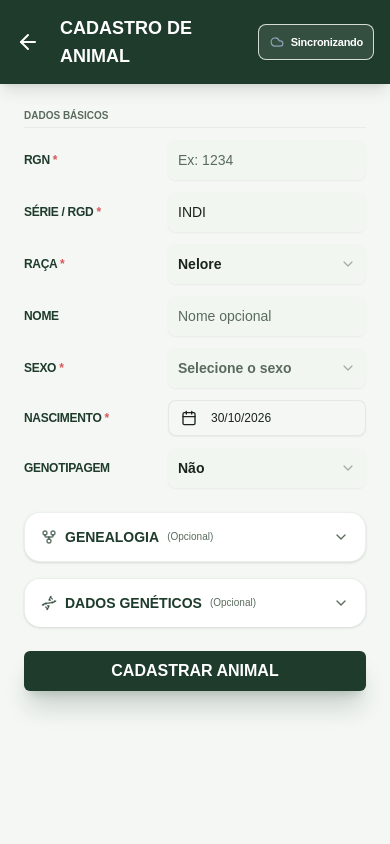
Test: CadastroAnimalPage — Item 7 › deve exibir mensagem de erro quando o cadastro falhar
The image size is (390, 844).
Type "9999" into the field with placeholder "Ex: 1234" at point(267, 160), box [168,140,366,180]
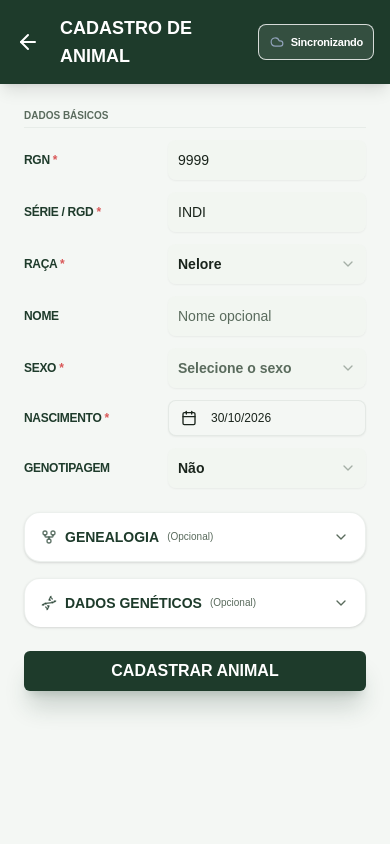
Click the button "Cadastrar Animal" at point(195, 671), box [24,651,366,691]
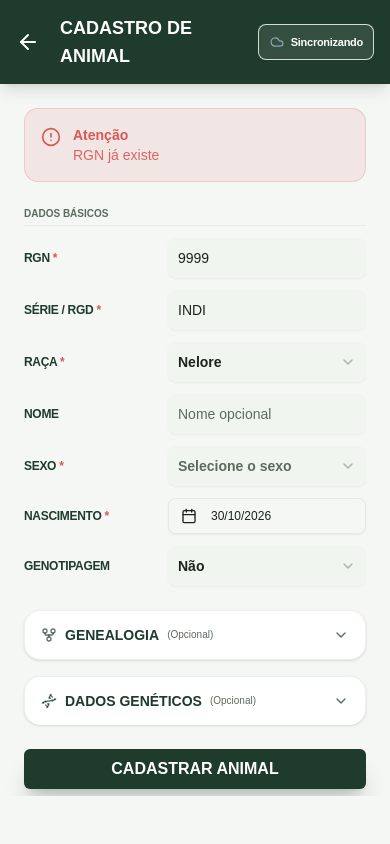
Expected: the text "Atenção" is shown, [73,127,128,143]
Expected: the text "RGN já existe" is shown, [73,145,159,165]
